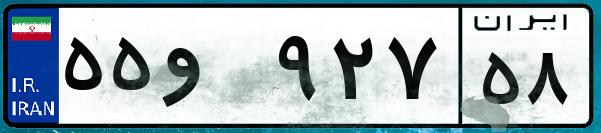2: (330, 28, 385, 110)
5: (57, 26, 110, 100), (475, 38, 525, 113), (110, 28, 158, 98)
7: (385, 28, 445, 110)
8: (525, 38, 570, 115)
9: (270, 28, 330, 110)
و: (158, 20, 270, 120)
